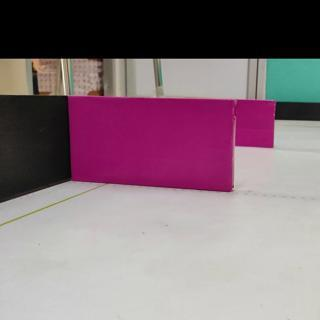xparking: (71, 98, 232, 188), (237, 101, 274, 147)
